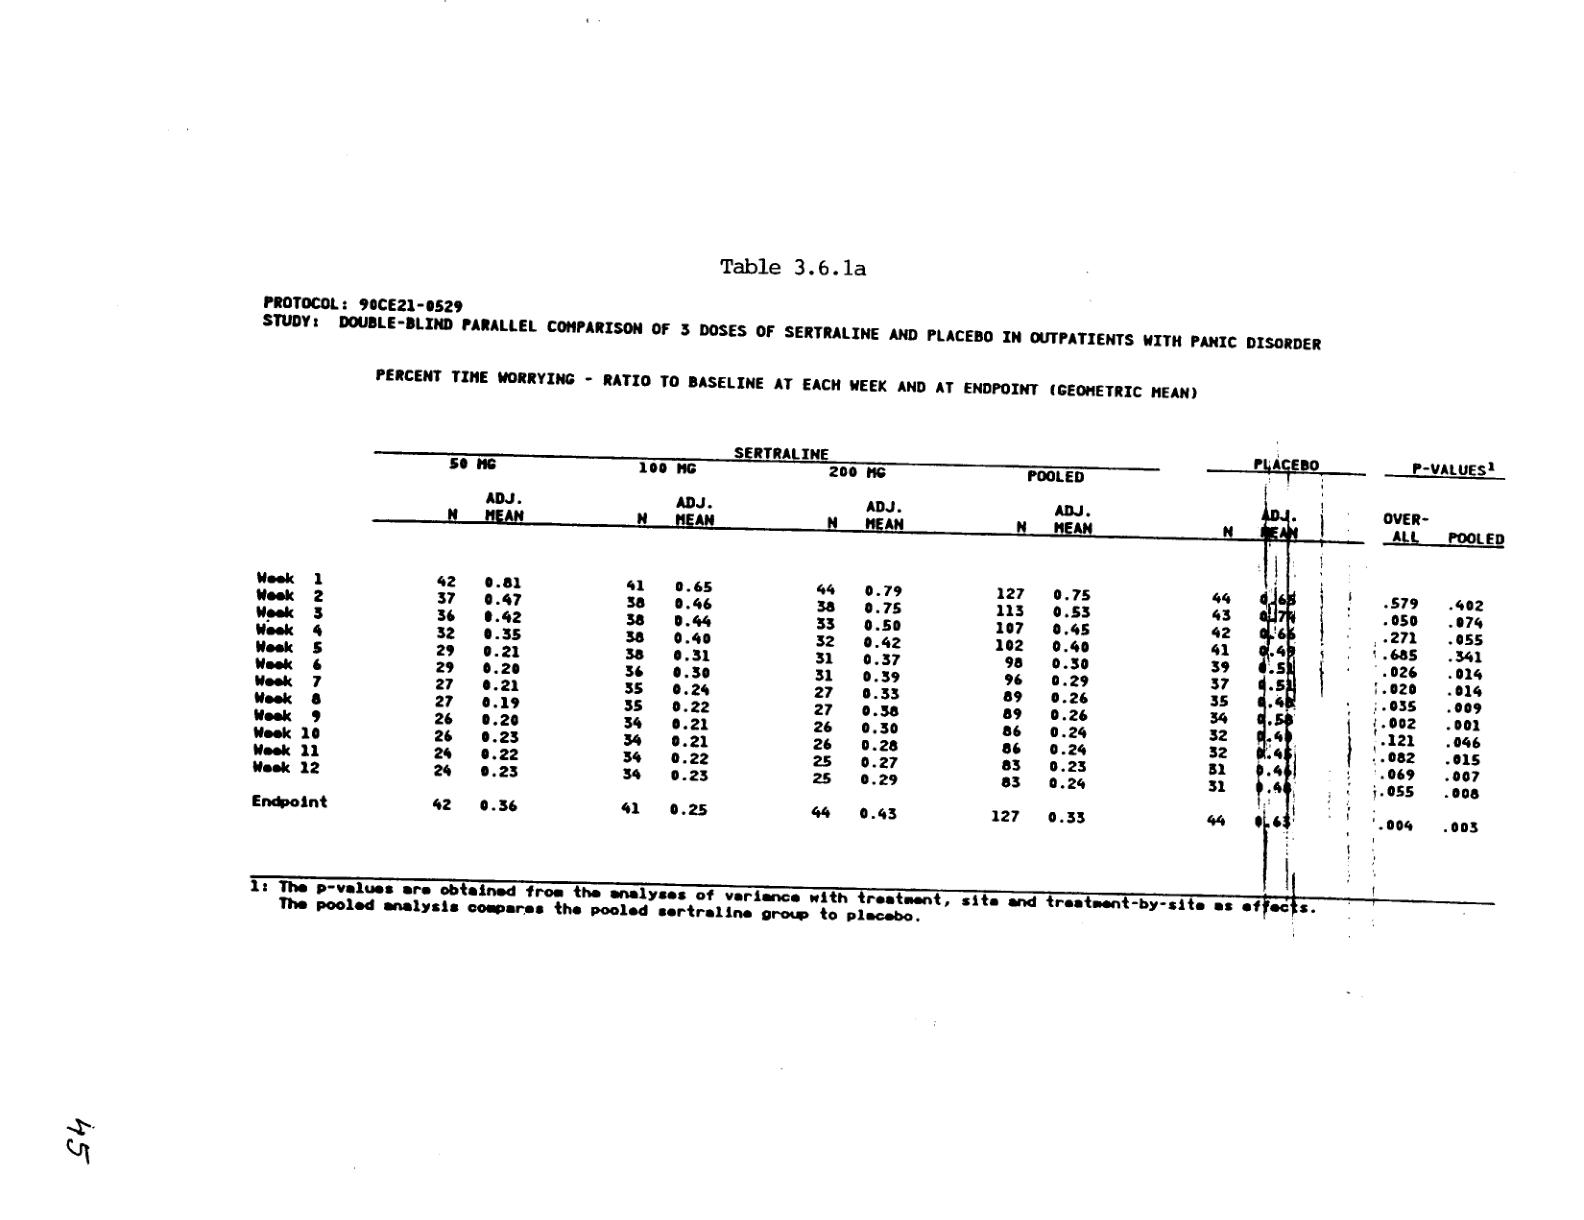partial_lined_merged_cells: (245, 443, 1505, 841)
